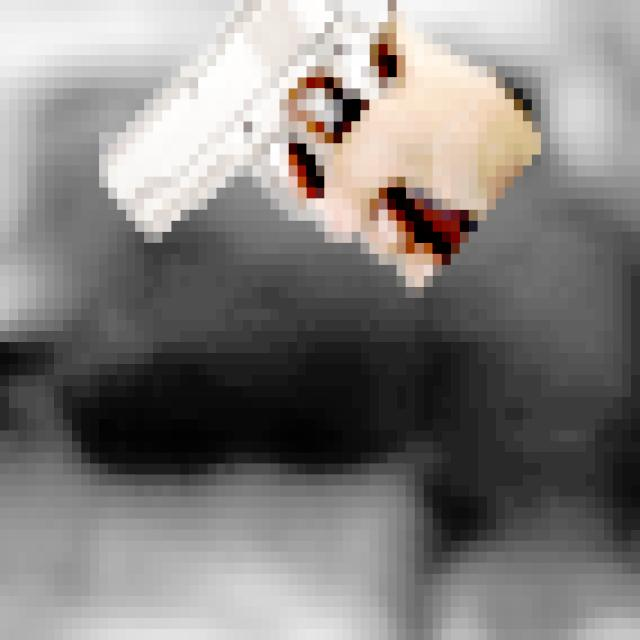arms: (54, 0, 424, 309)
